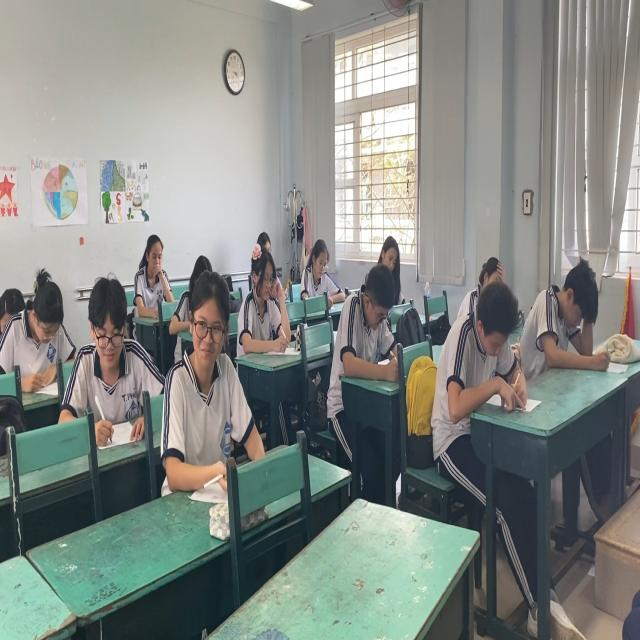cheating: (171, 275, 255, 472)
not_cheating: (526, 254, 612, 382), (2, 251, 72, 395), (74, 272, 138, 429), (451, 277, 523, 416), (337, 264, 399, 378), (233, 240, 292, 351), (296, 233, 344, 298), (137, 230, 173, 316), (378, 233, 404, 275)
